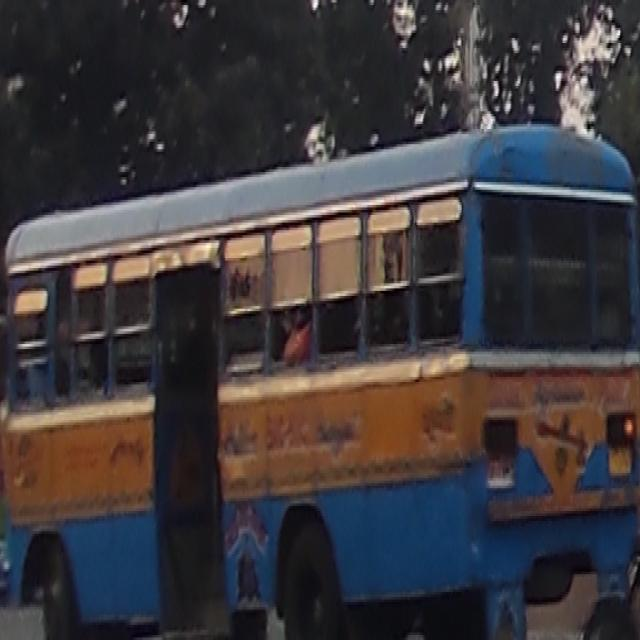bus: (8, 122, 639, 640)
